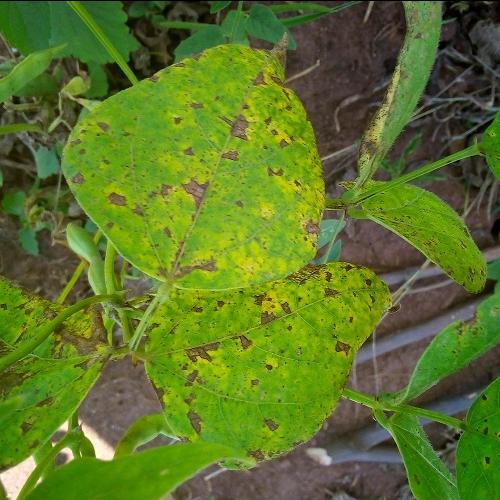hawar: (45, 0, 352, 264), (152, 253, 366, 442)
